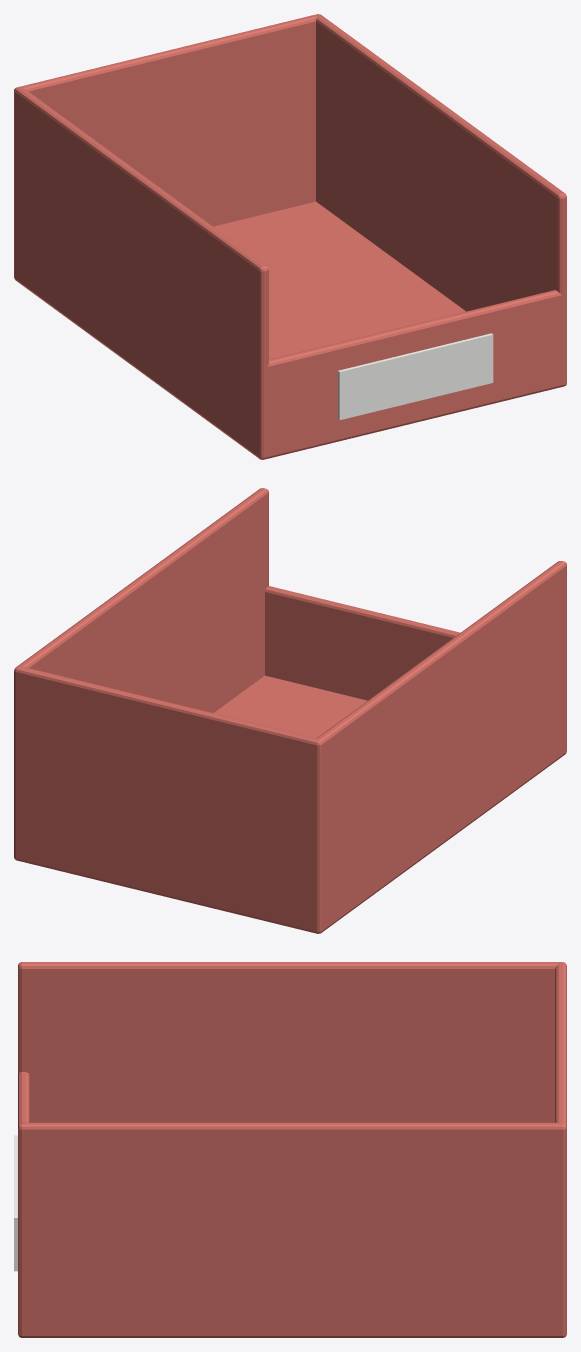
Rendered from part_bin_red.fbx.
The picture shows the model from 3 angles, top to bottom: view 1: azimuth 30°, elevation 25°; view 2: azimuth 150°, elevation 25°; view 3: azimuth 270°, elevation 25°; orthographic projection. The views are drawn at different scales.
Parts seen in each view (by area): view 1: part_bin_red; view 2: part_bin_red; view 3: part_bin_red.
Part boxes in pixels (bbox=[...]): part_bin_red: bbox=[14, 14, 566, 459]; part_bin_red: bbox=[14, 488, 566, 933]; part_bin_red: bbox=[14, 962, 566, 1337].
Bounding box in the file's own units: 0.2 × 0.12 × 0.282.
